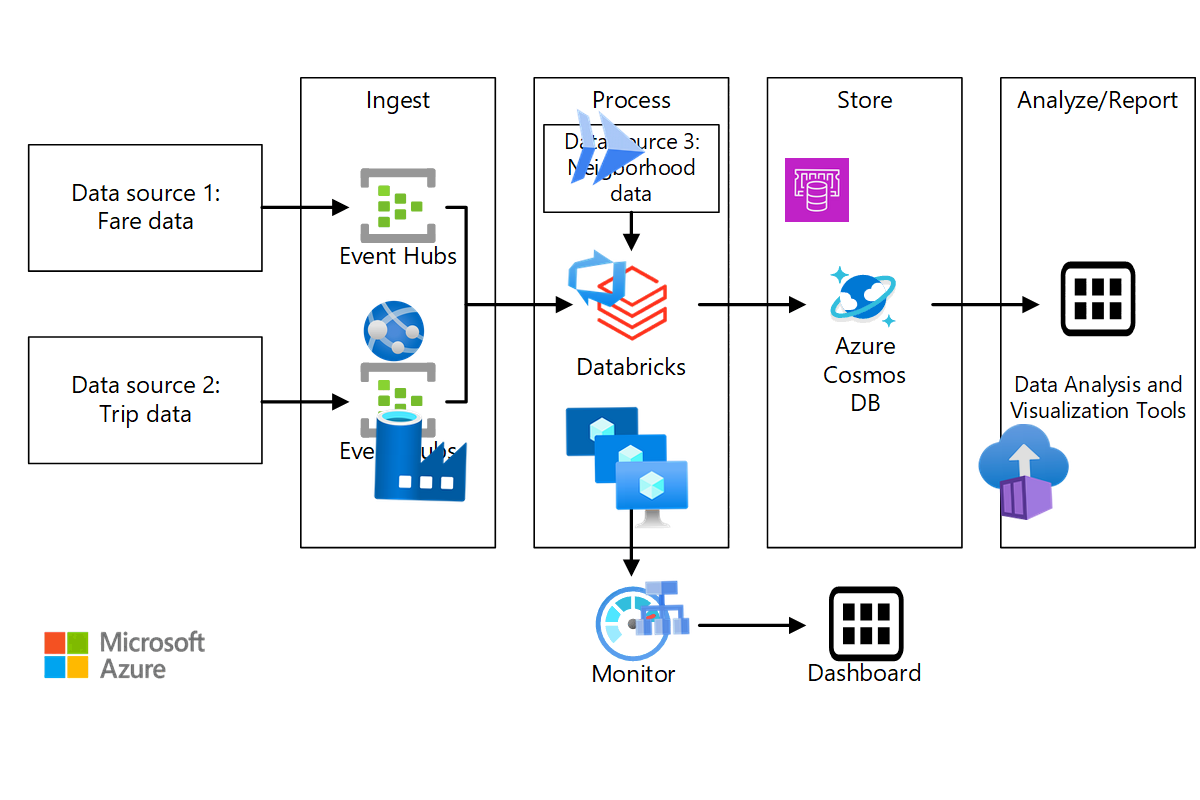aws_amazon_elasticache: (784, 157, 850, 223)
azure_app_services: (361, 298, 427, 364)
azure_container_instances: (973, 421, 1075, 523)
azure_data_factories: (371, 405, 471, 505)
azure_devops: (563, 244, 631, 312)
azure_vm_scale_sets: (560, 400, 690, 530)
gcp_cloud_load_balancing: (629, 575, 695, 641)
gcp_cloud_run: (556, 97, 660, 201)
